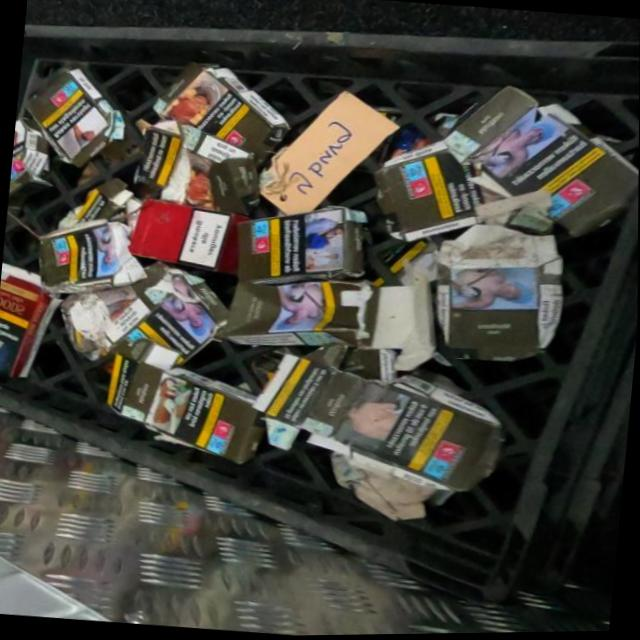Paper: (243, 332, 515, 499), (434, 78, 640, 246), (428, 218, 570, 368), (101, 349, 271, 469), (146, 54, 298, 168), (363, 132, 493, 250), (229, 196, 379, 295), (100, 261, 234, 371), (221, 266, 375, 357), (54, 250, 170, 368), (17, 59, 131, 171), (31, 210, 154, 301), (126, 194, 252, 277), (0, 258, 68, 383), (7, 114, 62, 213), (204, 152, 266, 216), (132, 124, 184, 193)
